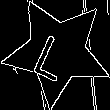L_NE: (33, 22, 82, 81)
